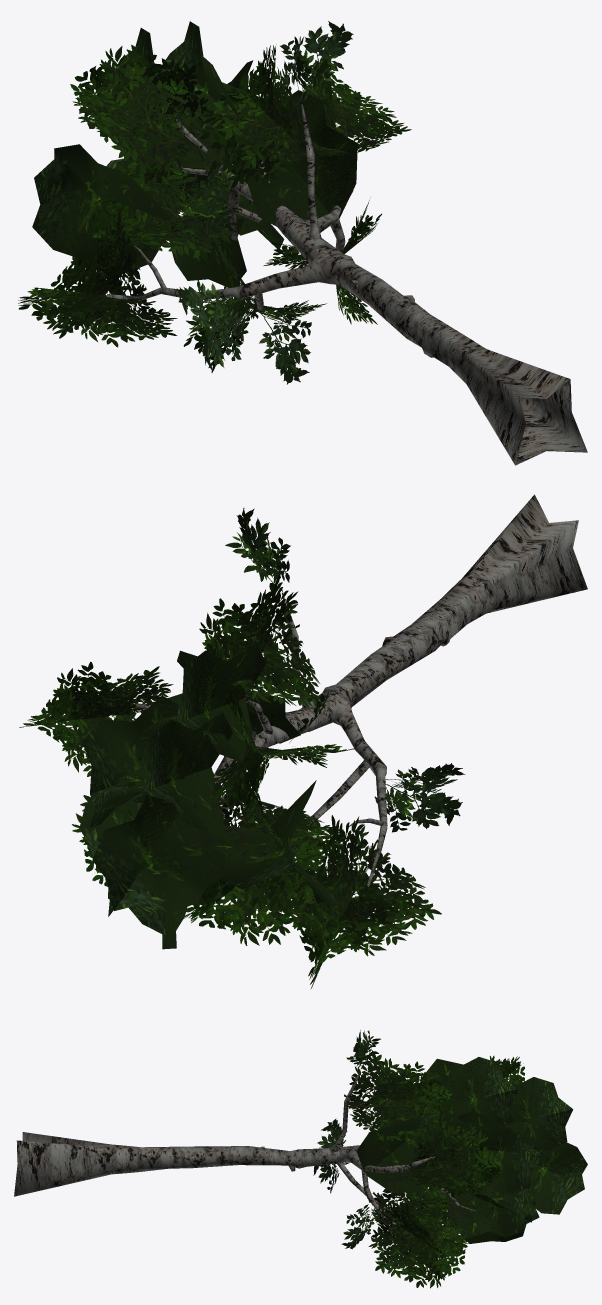
File: WhiteBirch_A3.obj
3 renders of one model, top to bottom at view 1: azimuth 30°, elevation 25°; view 2: azimuth 150°, elevation 25°; view 3: azimuth 270°, elevation 25°, orthographic. The views are drawn at different scales.
Visible parts, largest first — view 1: A_Twist00OutsideNormalOriginalModel_00__Mt_Treeleaf_00, B_Twist00OutsideNormalOriginalModel_00__Mt_Treeleaf_01, polySurface1436__Mt_Tree_Trunk, polySurface1382_1__Mt_Treeleaf_02, polySurface1436__Mt_Tree_Stump, polySurface1436__Mt_Treeleaf_03; view 2: A_Twist00OutsideNormalOriginalModel_00__Mt_Treeleaf_00, B_Twist00OutsideNormalOriginalModel_00__Mt_Treeleaf_01, polySurface1436__Mt_Tree_Trunk, polySurface1436__Mt_Tree_Stump, polySurface1382_1__Mt_Treeleaf_02; view 3: B_Twist00OutsideNormalOriginalModel_00__Mt_Treeleaf_01, A_Twist00OutsideNormalOriginalModel_00__Mt_Treeleaf_00, polySurface1436__Mt_Tree_Trunk, polySurface1436__Mt_Tree_Stump, polySurface1382_1__Mt_Treeleaf_02.
Part boxes in pixels (x1,y1,x2,y2): A_Twist00OutsideNormalOriginalModel_00__Mt_Treeleaf_00: (18, 43, 411, 372); B_Twist00OutsideNormalOriginalModel_00__Mt_Treeleaf_01: (32, 21, 357, 287); polySurface1436__Mt_Tree_Trunk: (106, 100, 471, 370); polySurface1382_1__Mt_Treeleaf_02: (170, 21, 353, 384); polySurface1436__Mt_Tree_Stump: (451, 340, 587, 465); polySurface1436__Mt_Treeleaf_03: (163, 118, 261, 240); A_Twist00OutsideNormalOriginalModel_00__Mt_Treeleaf_00: (19, 573, 441, 989); B_Twist00OutsideNormalOriginalModel_00__Mt_Treeleaf_01: (80, 643, 334, 949); polySurface1436__Mt_Tree_Trunk: (135, 584, 481, 886); polySurface1436__Mt_Tree_Stump: (448, 494, 587, 620); polySurface1382_1__Mt_Treeleaf_02: (225, 508, 465, 857); B_Twist00OutsideNormalOriginalModel_00__Mt_Treeleaf_01: (356, 1057, 587, 1243); A_Twist00OutsideNormalOriginalModel_00__Mt_Treeleaf_00: (344, 1050, 524, 1288); polySurface1436__Mt_Tree_Trunk: (131, 1071, 435, 1224); polySurface1436__Mt_Tree_Stump: (14, 1132, 131, 1196); polySurface1382_1__Mt_Treeleaf_02: (313, 1030, 403, 1249).
Bounding box in the file's own units: 10.49 × 9.84 × 20.88.
9 materials, 8 textured.
